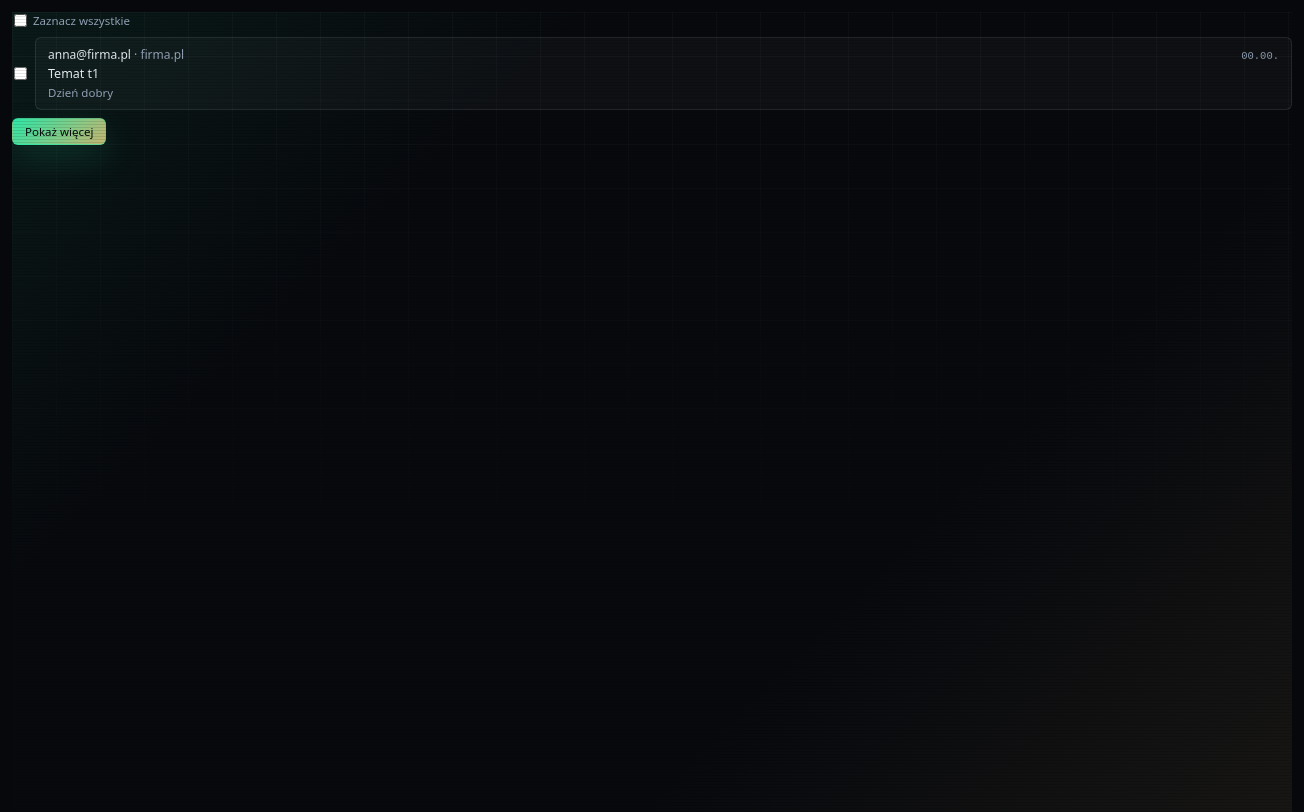
Test case: ListaSpraw - Do przejrzenia i błędy › błąd przy „Pokaż więcej” zostawia wczytaną listę
Click the button "Pokaż więcej".
click(59, 132)  # box [12,118,106,145]
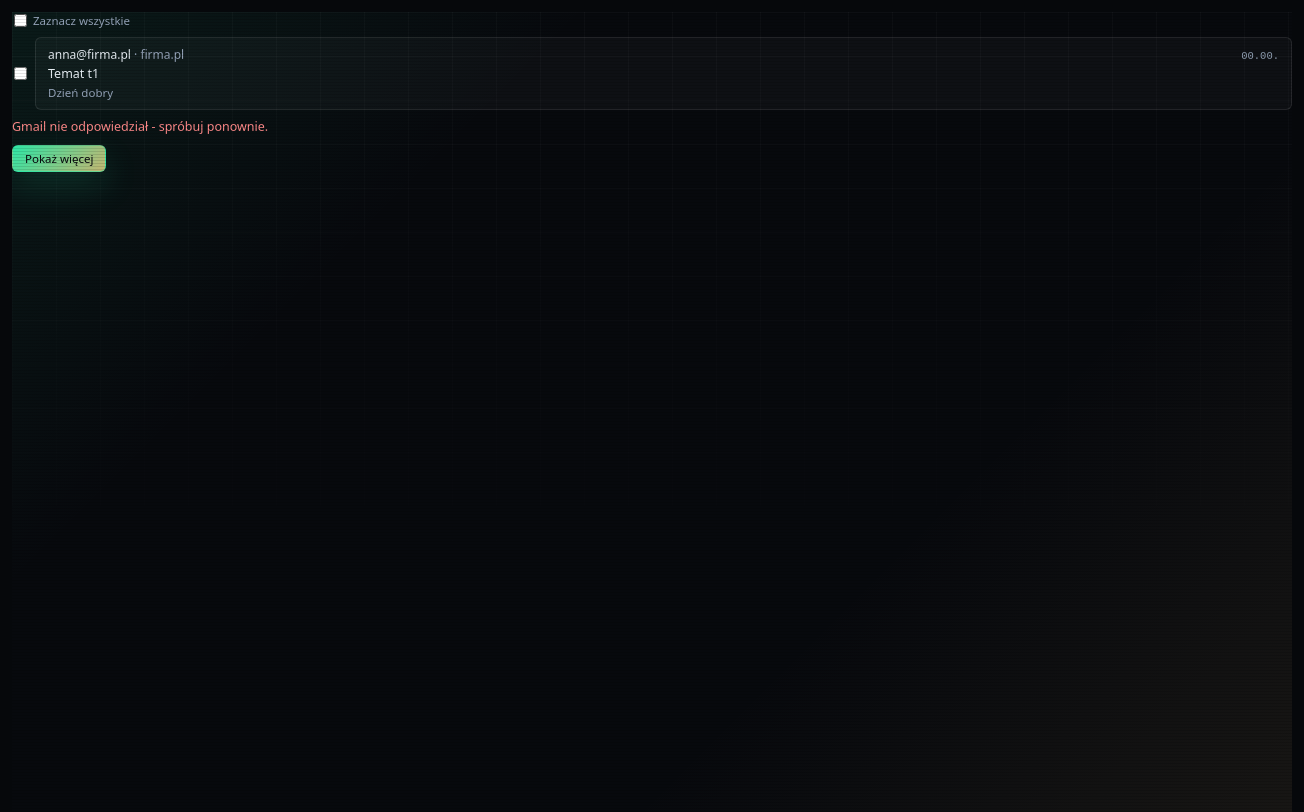
Expected: the button "anna@firma.pl · firma.pl 00.00. Temat t1 Dzień dobry" is shown, [35,37,1292,110]
Expected: the message shows "Gmail nie odpowiedział", [12,118,268,135]
